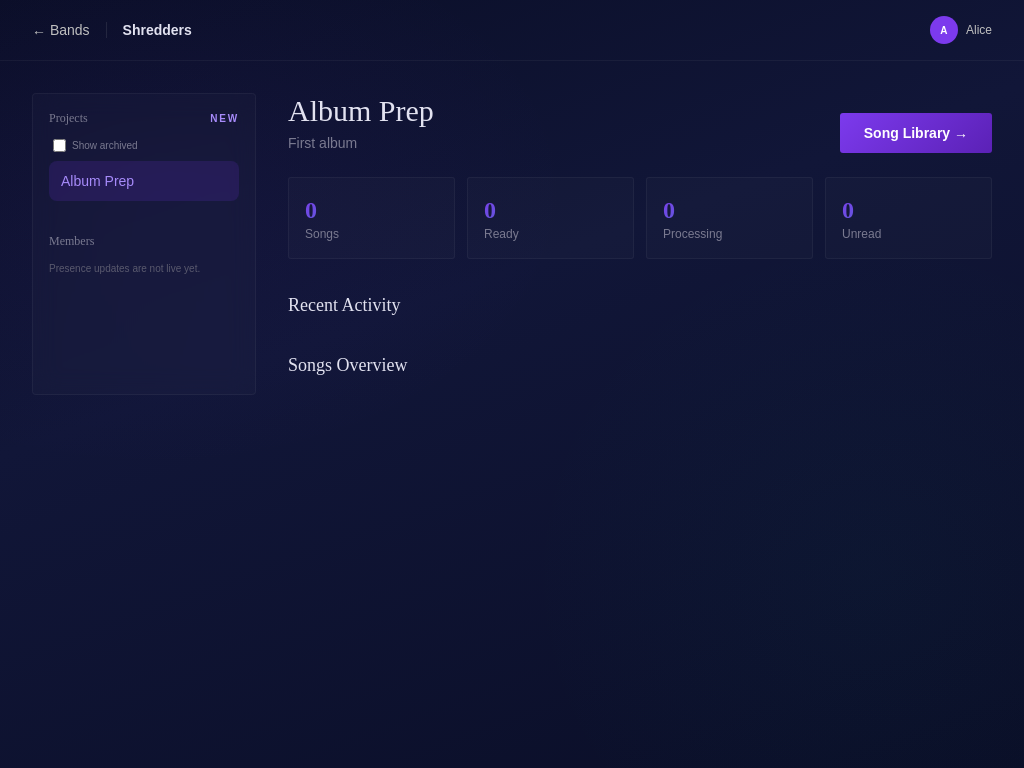
Test: ProjectHomePage — project creation modal › modal closes on Cancel button click
What coordinates should you click on to do the following:
click the button with aria-label "create new project"
I would click on:
 (225, 118)
Its box is [210, 110, 239, 126].
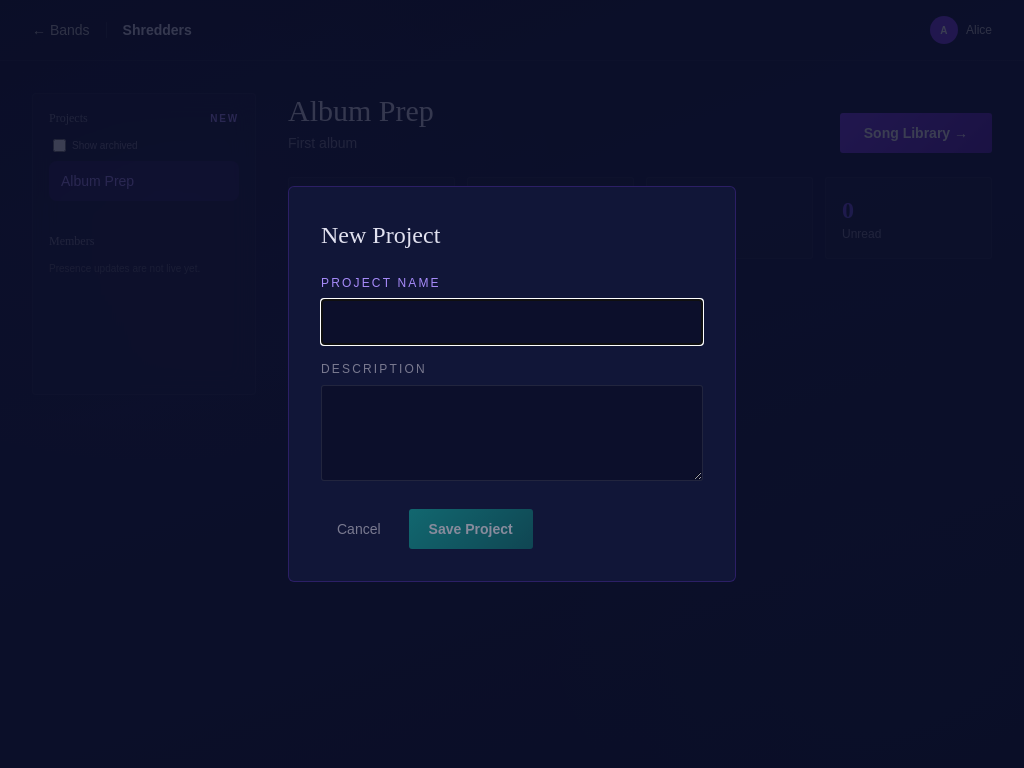
What coordinates should you click on to do the following:
click the button "Cancel"
I would click on:
 (359, 529)
Its box is [321, 509, 397, 549].
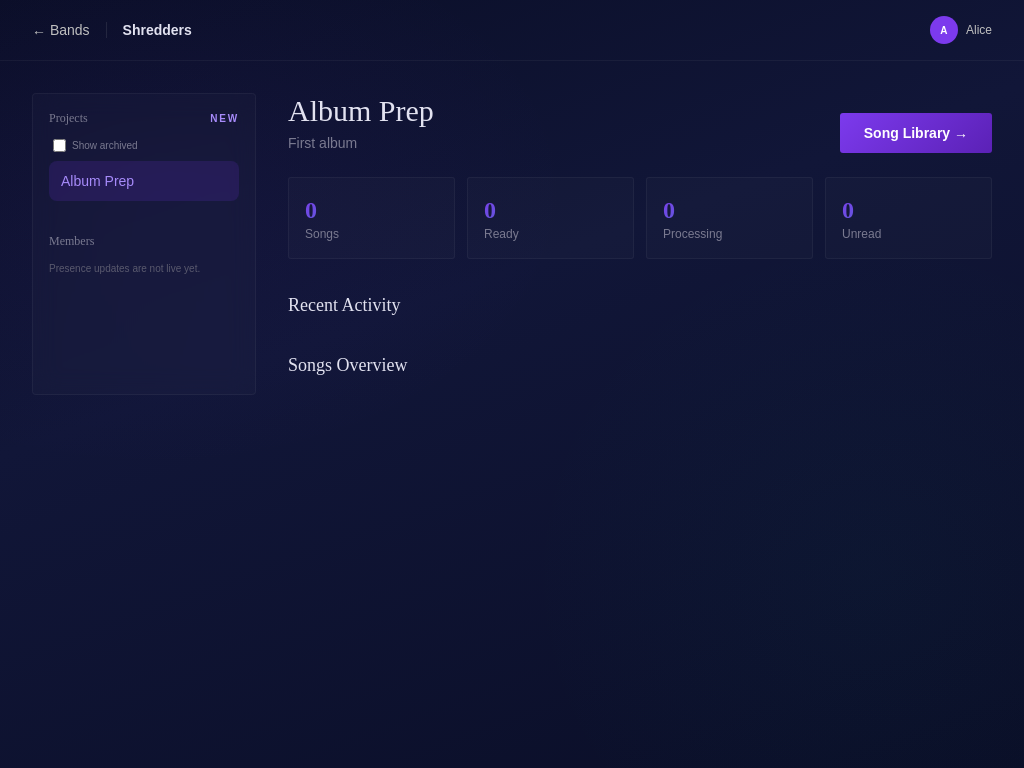
Check: the dialog is gone
